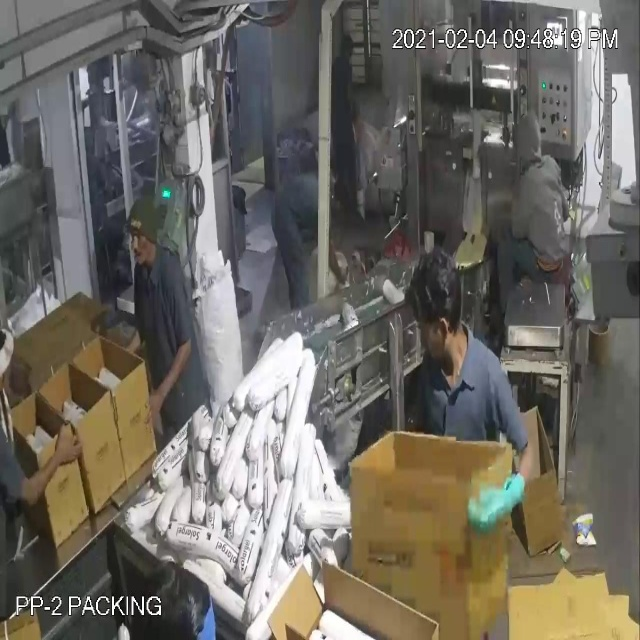Guantes: (465, 446, 536, 560)
Sin_guantes: (124, 316, 203, 425), (16, 413, 87, 527), (314, 217, 353, 291), (346, 63, 368, 154)
